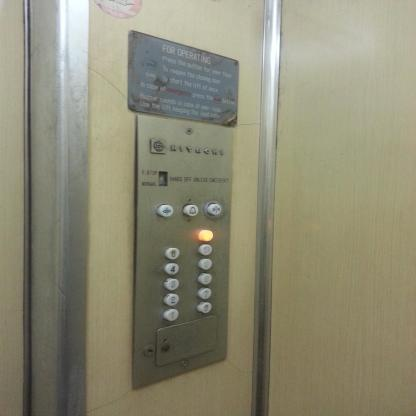1: (162, 308, 178, 321)
10: (198, 243, 212, 257)
2: (163, 292, 179, 306)
3: (164, 277, 179, 290)
4: (164, 262, 179, 276)
5: (164, 246, 180, 260)
6: (196, 300, 212, 314)
7: (198, 286, 212, 300)
8: (198, 272, 212, 285)
9: (198, 258, 212, 270)
alarm: (182, 203, 198, 217)
close: (206, 201, 223, 216)
empty: (198, 228, 213, 242)
keyhole: (142, 345, 154, 356)
open: (156, 204, 173, 217)
